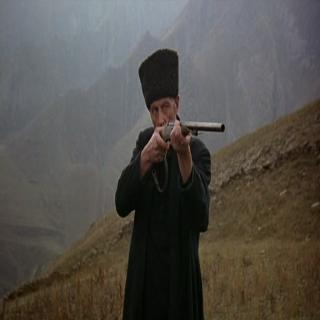gun: (149, 114, 226, 163)
